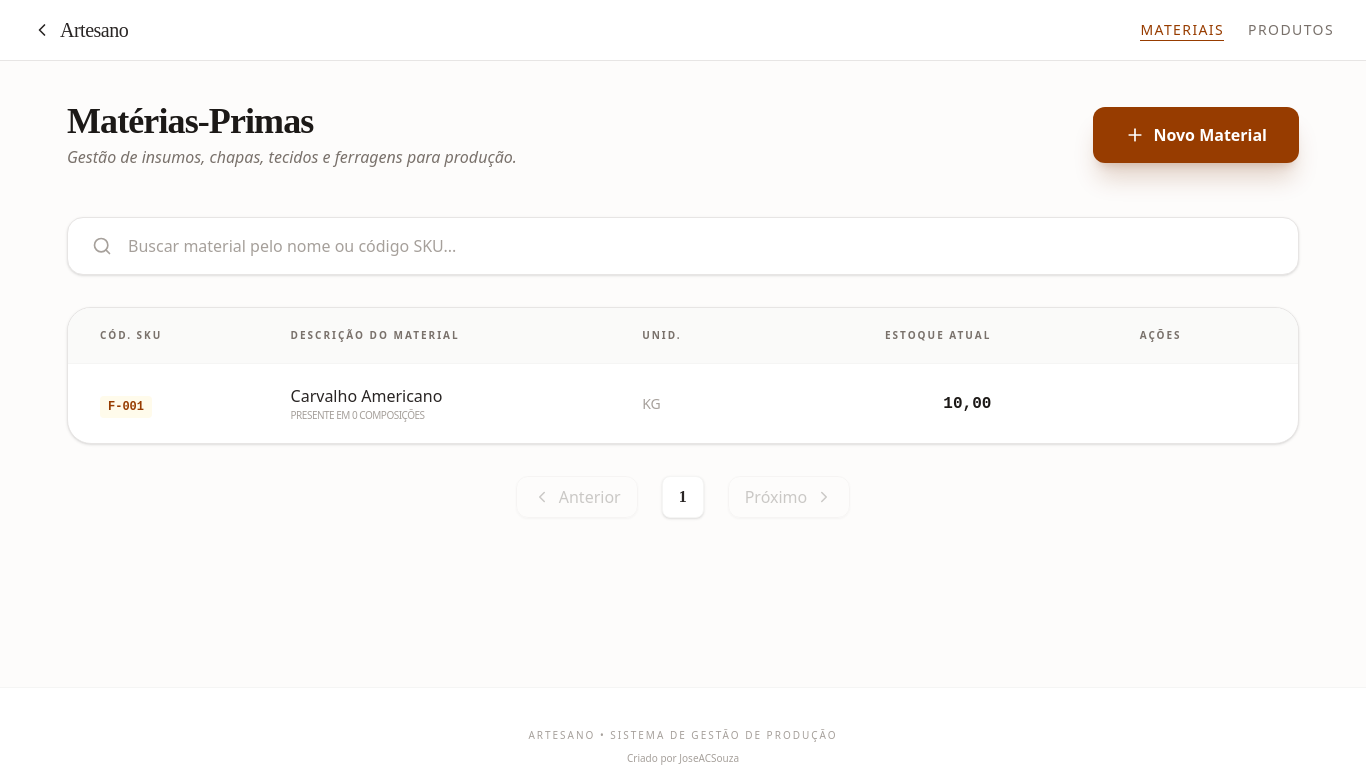
Test: Feedstocks › lists feedstocks and allows creating a new one
expect the heading "Matérias-Primas" is shown: met, box [67,101,313,141]
expect the text "Carvalho Americano" is shown: met, box [291,385,442,407]
Click the button "Novo Material" at (1196,135), box [1093,107,1299,163]
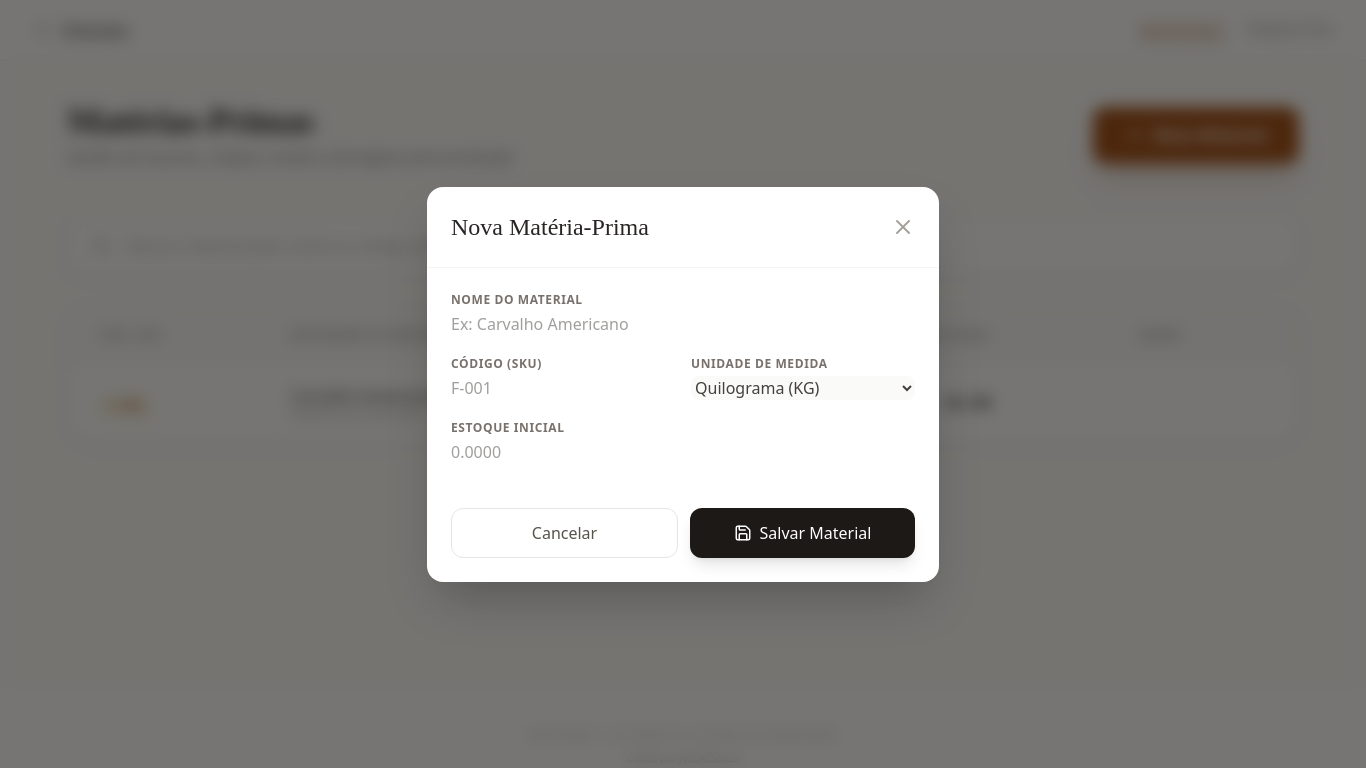
expect the heading "Nova Matéria-Prima" is shown: met, box [451,210,649,242]
Type "Aço Inox" into the field with placeholder "Ex: Carvalho Americano" at (683,324), box [451,312,915,336]
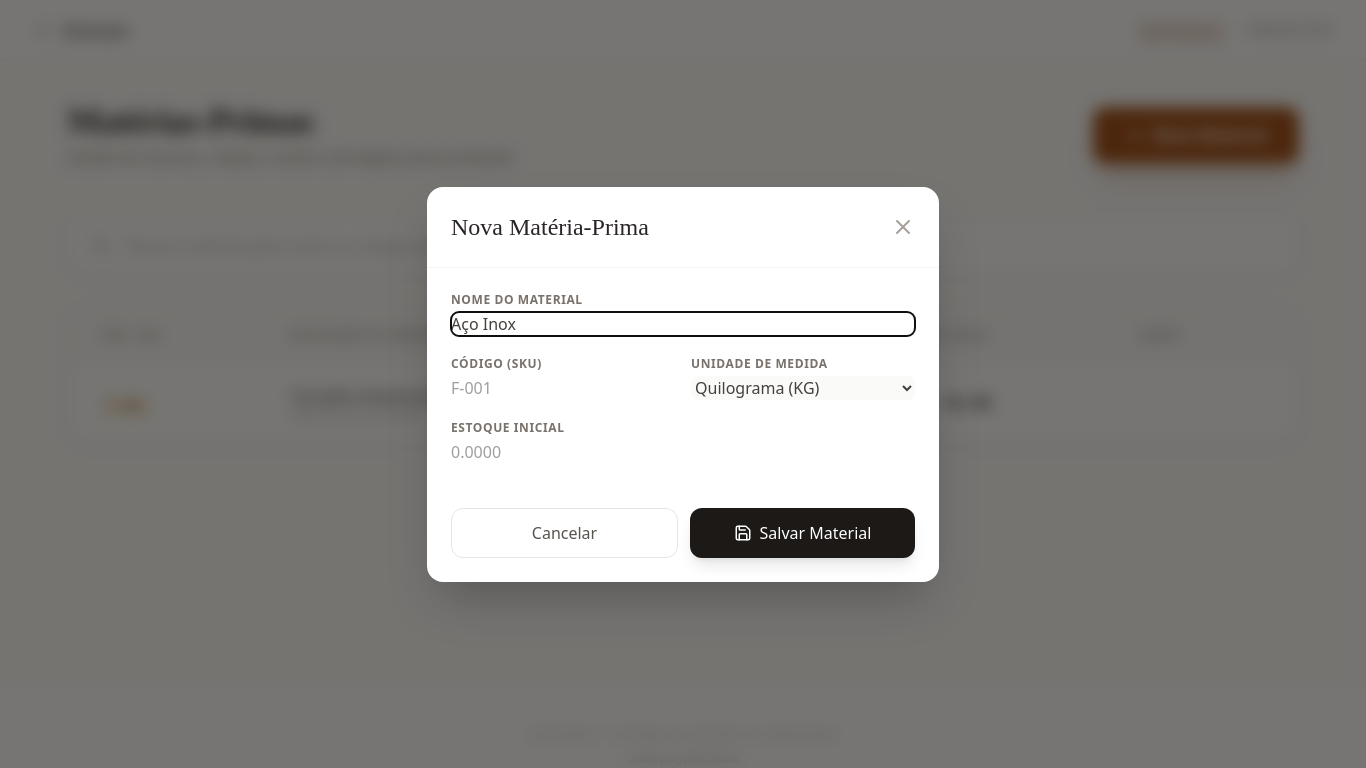
Type "F-002" into the field with placeholder "F-001" at (563,388), box [451,376,675,400]
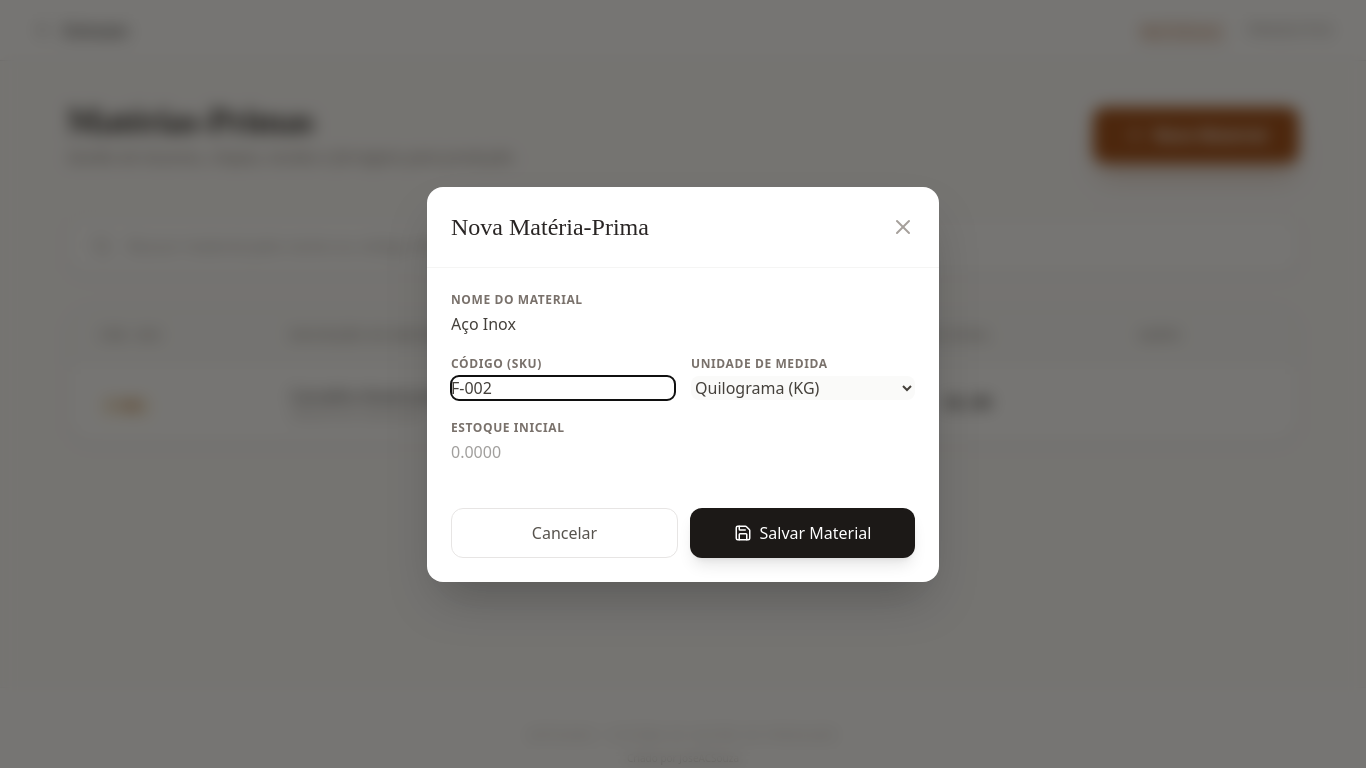
Select "Unidade (UN)" in the dropdown at (803,388), box [691,376,915,400]
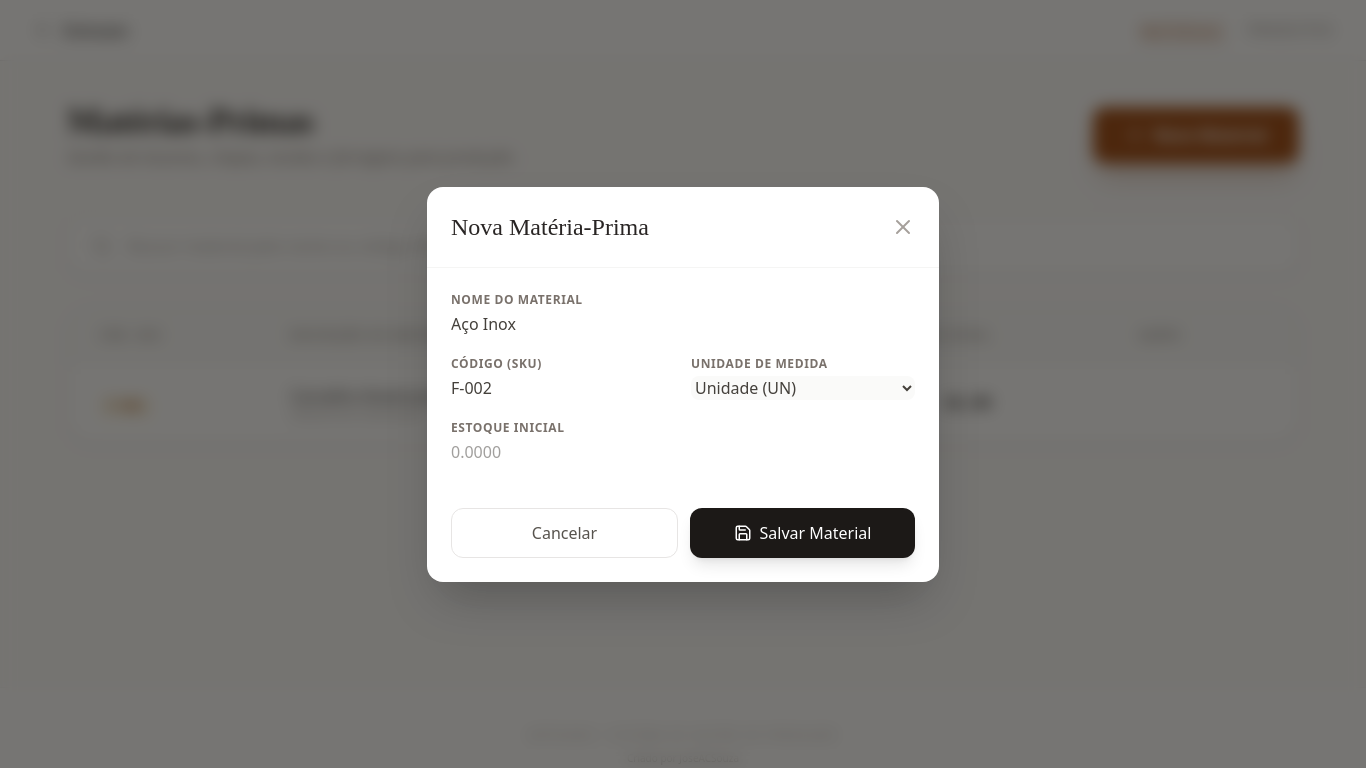
Type "25" into the number field with placeholder "0.0000" at (683,452), box [451,440,915,464]
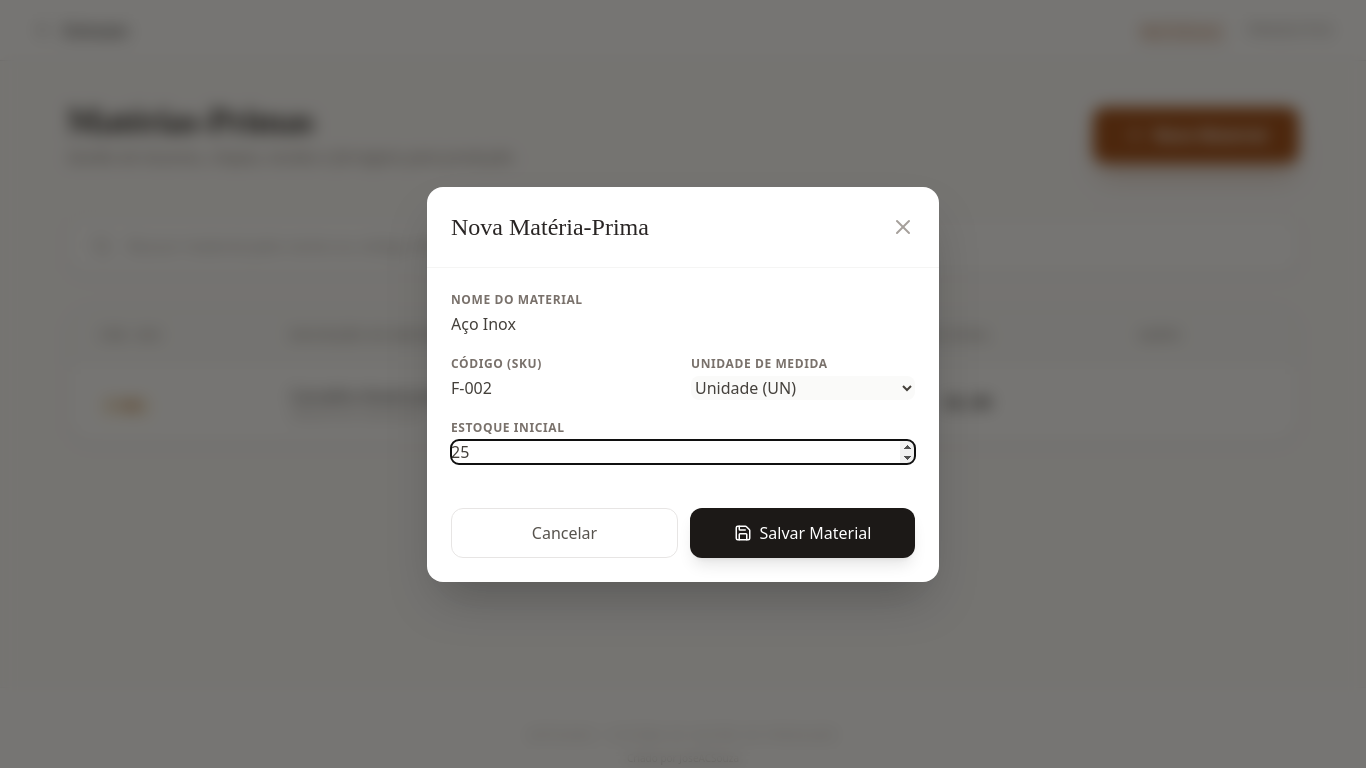
Click the button "Salvar Material" at (803,533), box [690,508,915,558]
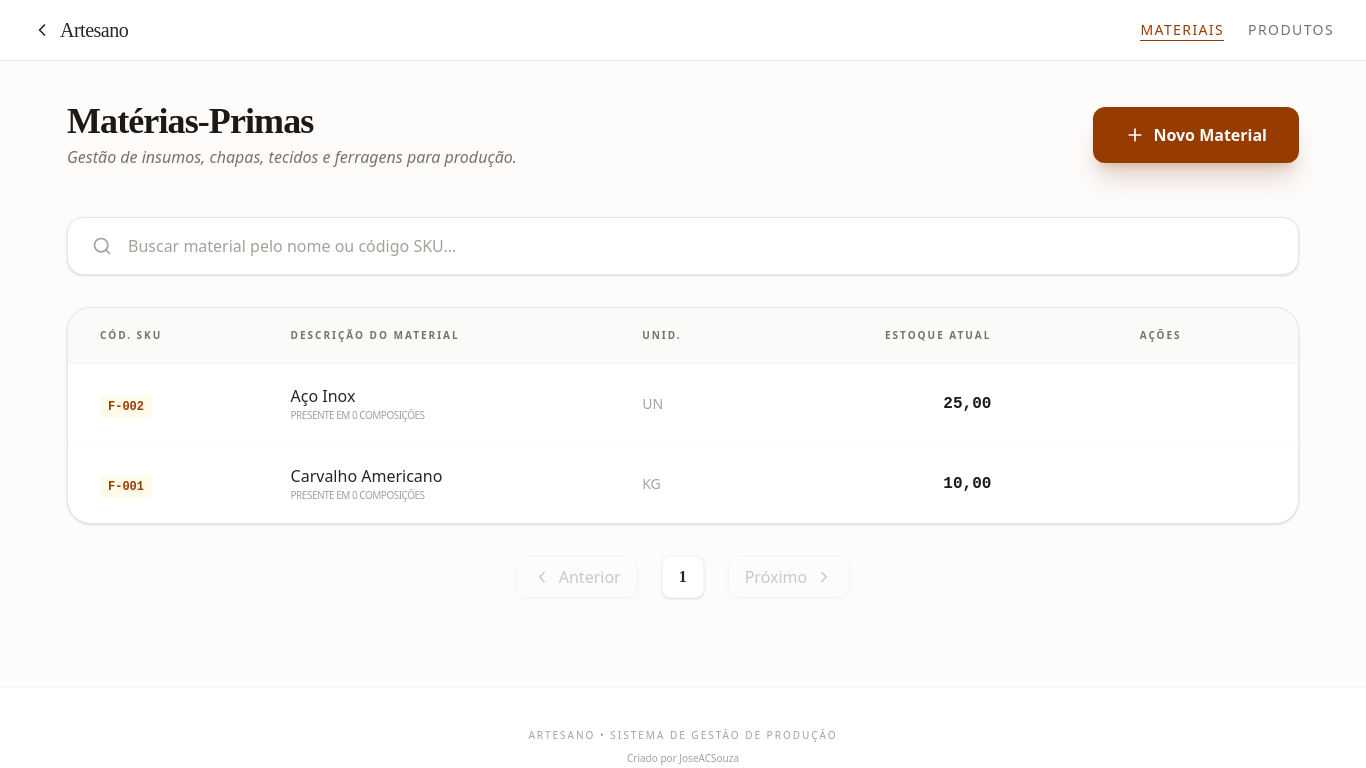
expect the text "Aço Inox" is shown: met, box [291,385,356,407]
expect the text "F-002" is shown: met, box [100,396,152,418]
